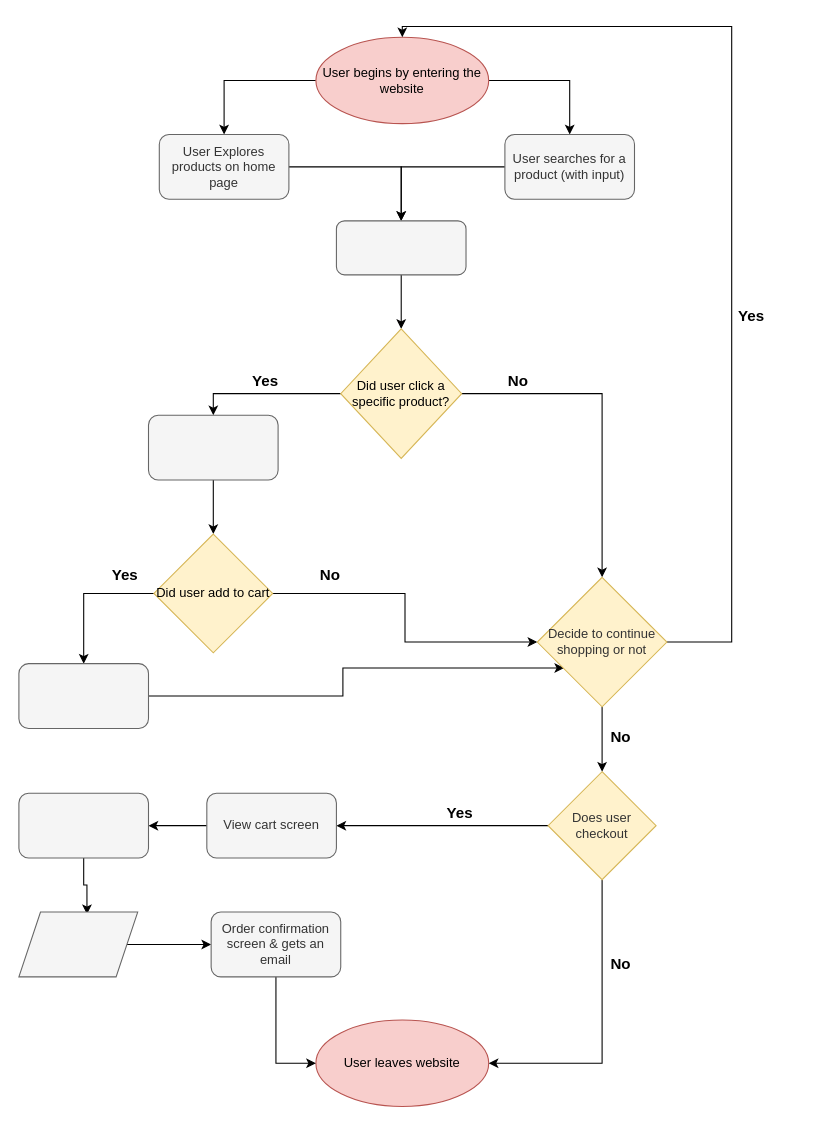
Image size: 821x1125. Some labels were removed from this diagram. The shapes that lost their labels are listed below. From the top down, each one's centre as x and y in pixels, then its label:
At pixel 400 247: "User begins looking over products".
At pixel 212 447: "Product's webpage opens".
At pixel 83 695: "User gets cart confirmation".
At pixel 83 825: "View Payment screen".
At pixel 78 944: "User inputs payment info".
